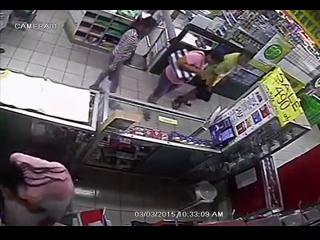Normal: (0, 152, 76, 226), (90, 15, 160, 94), (147, 48, 225, 107)
